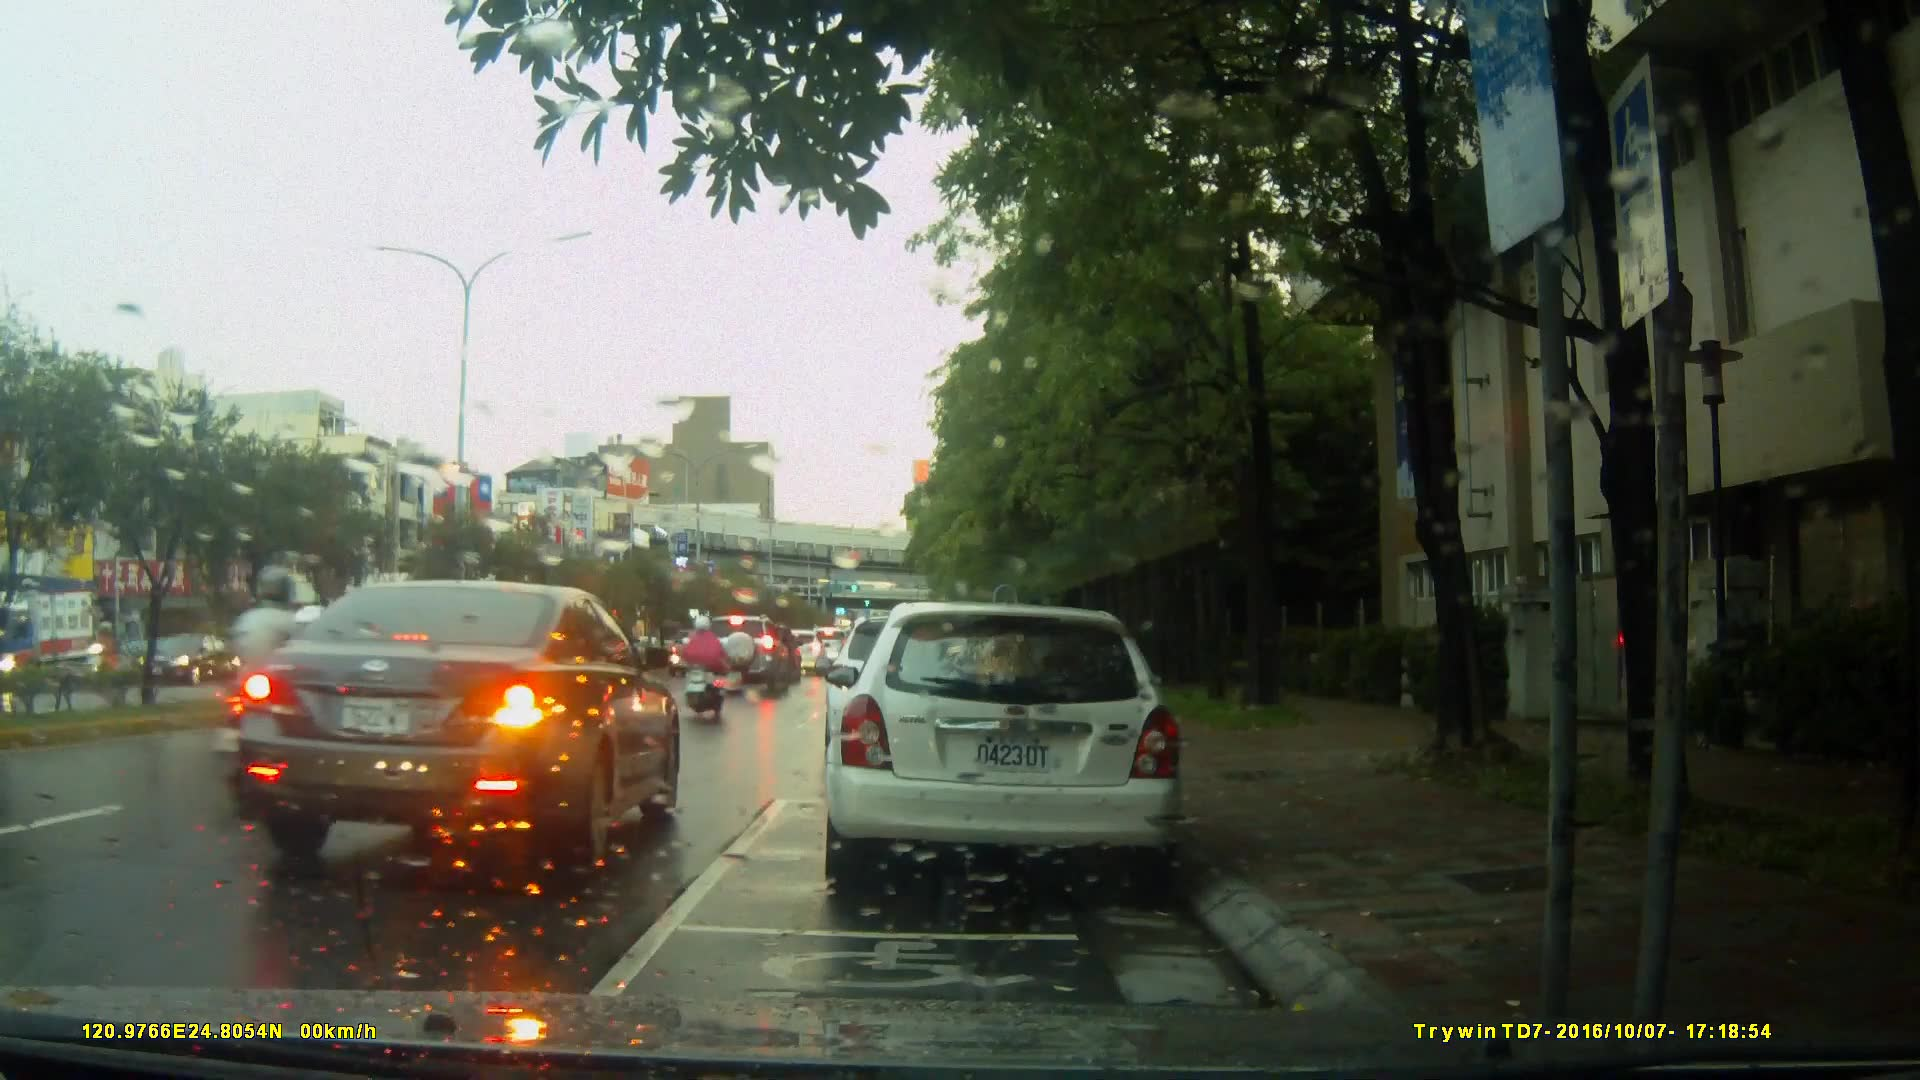rider: (218, 561, 353, 825), (689, 614, 730, 729)
vehicle: (232, 576, 686, 870), (820, 602, 1188, 898), (697, 615, 790, 698), (134, 634, 239, 689)
